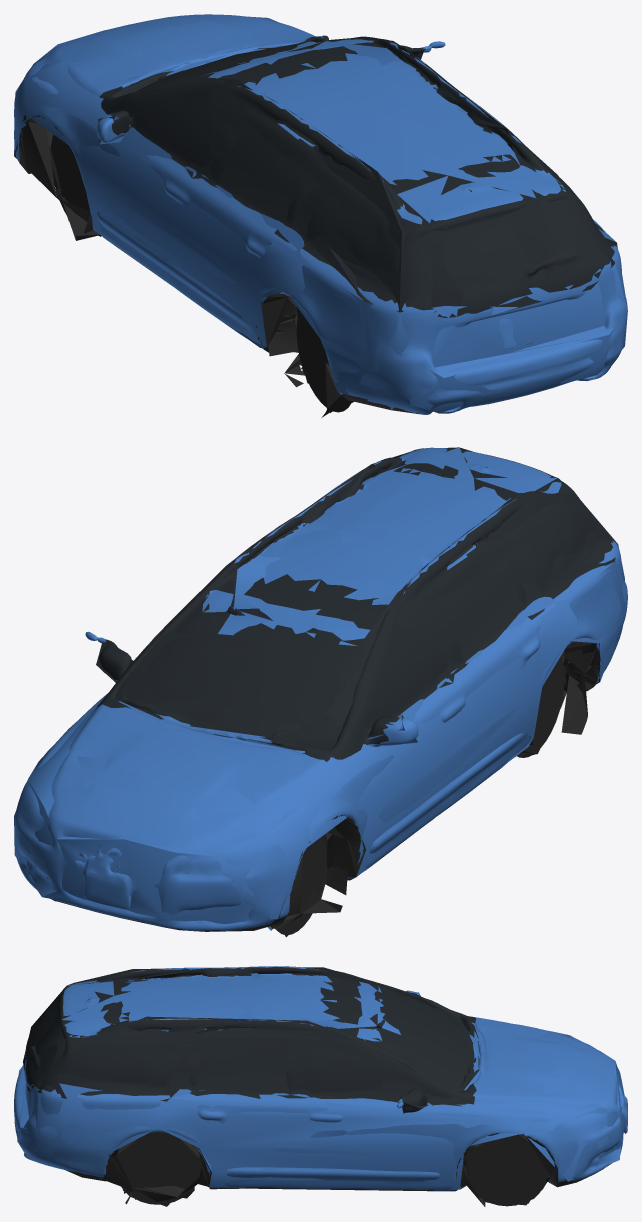
File: volvo-v70.glb
3 renders of one model, top to bottom at view 1: azimuth 30°, elevation 25°; view 2: azimuth 150°, elevation 25°; view 3: azimuth 270°, elevation 25°, orthographic. The views are drawn at different scales.
Visible parts, largest first — view 1: body, far; view 2: body, far; view 3: body, far.
Boxes of the visible parts, x1,y1,x2,y2 form: body: (14,14,627,417); far: (14,14,627,413); body: (15,447,627,934); far: (14,447,625,937); body: (14,966,627,1206); far: (17,967,626,1206).
Size of the model in its own units: 2.24 by 1.55 by 4.84.
